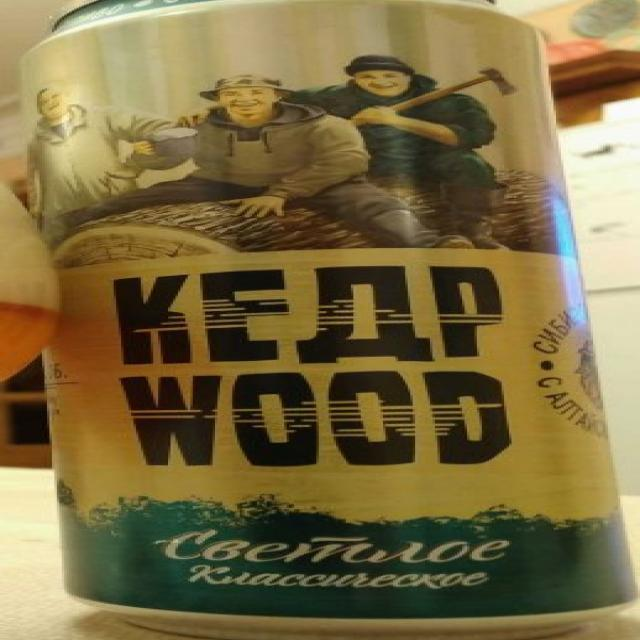Kedrwood: (2, 0, 640, 640)
